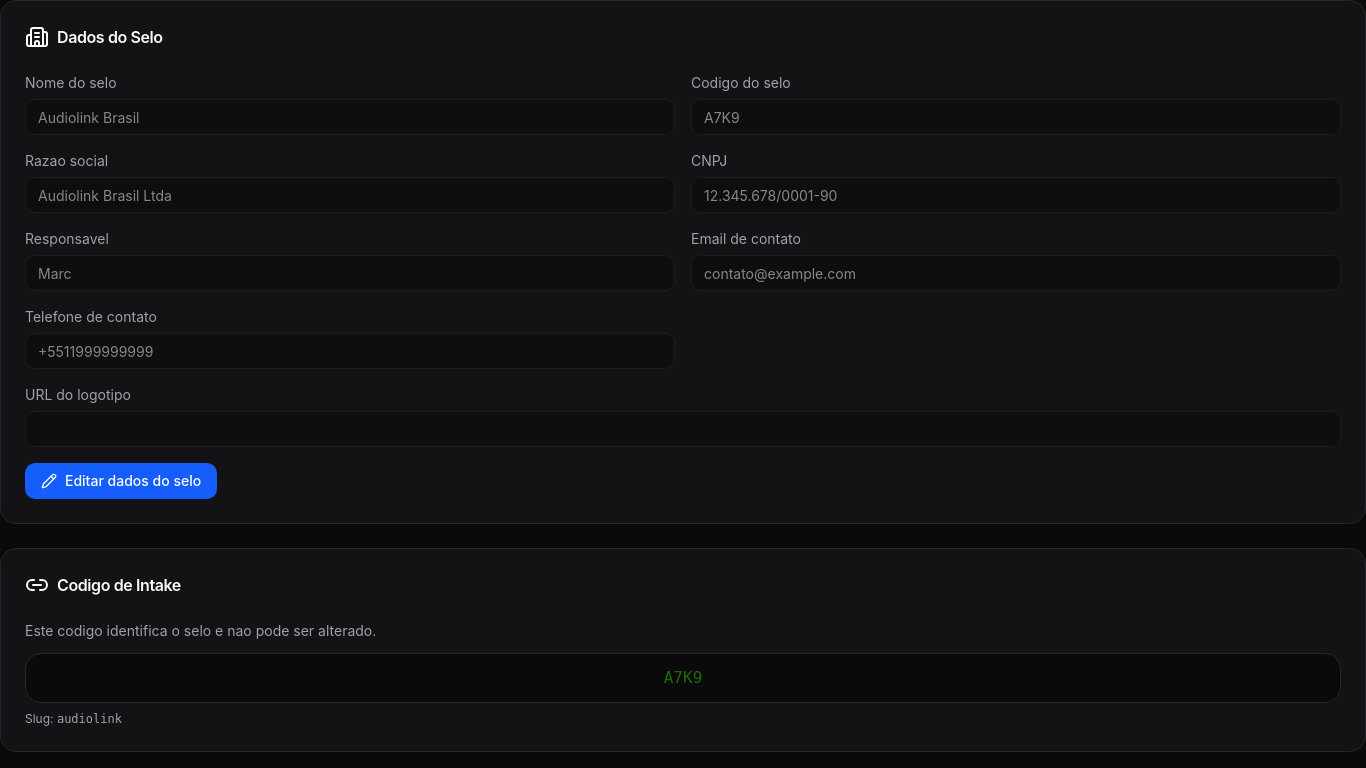
it: SeloConfigPage › edits business data while keeping the intake code immutable
Expected: the field labelled "Nome do selo" holds "Audiolink Brasil", [25, 99, 675, 135]
Expected: the field labelled "Responsavel" holds "Marc", [25, 255, 675, 291]
Click the button "Editar dados do selo" at (121,481), box [25, 463, 217, 499]
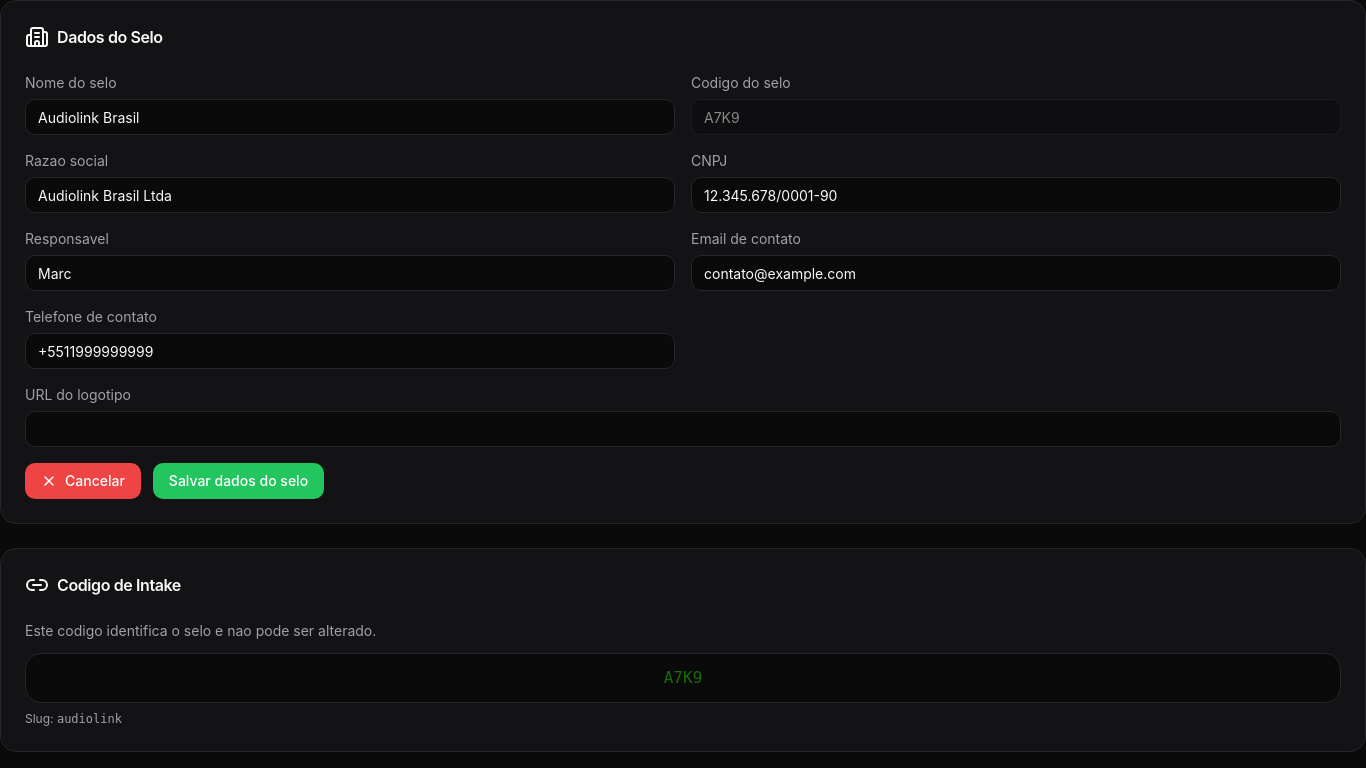
Expected: the field labelled "Codigo do selo" is disabled, [691, 99, 1341, 135]
Expected: the button "Salvar dados do selo" is shown, [153, 463, 324, 499]
Expected: the field labelled "Nome do selo" is enabled, [25, 99, 675, 135]
